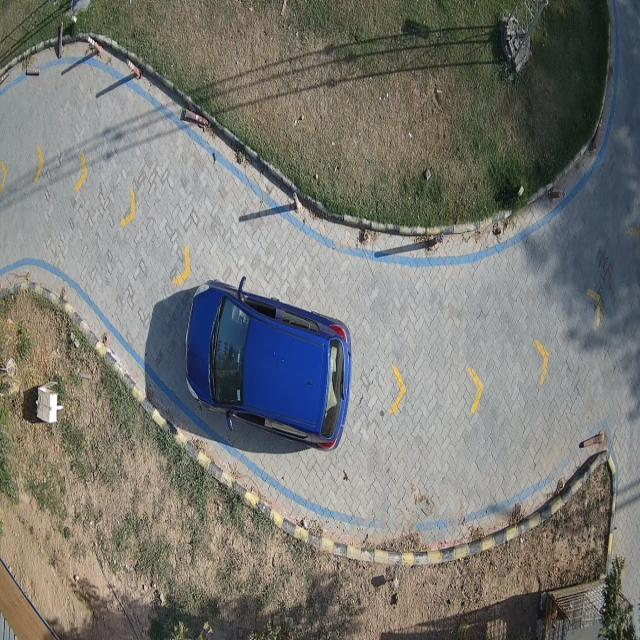car: (185, 278, 351, 451)
